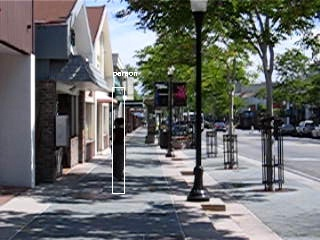person: (109, 117, 130, 183), (108, 117, 129, 183), (110, 117, 131, 183), (109, 116, 130, 182), (109, 118, 130, 184)
target_negative: (76, 67, 279, 188), (235, 182, 318, 221), (289, 53, 299, 238), (289, 178, 314, 227), (89, 60, 184, 66), (292, 82, 295, 192)
